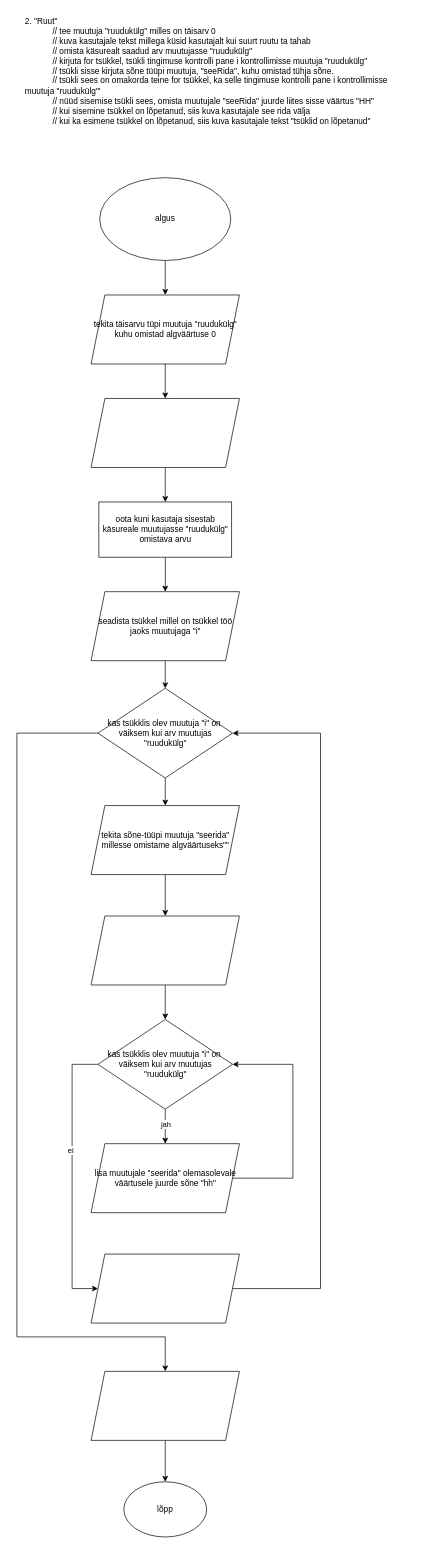
The diagram is 422 pixels wide and 1549 high, and some of its shapes have lost their labels. Each missing label, with the centre of its shape:
kuva kasutajale muutuja "seerida": the point at 164,1288
kuva kasutajale tekst "kui suurt ruutu te tahate": the point at 164,432
kuva kasutajale tekst "see tsükkel on lõpetanud": the point at 164,1405
seadista teine tsükkel millel on tsükkel töö jaoks muutuja "i": the point at 164,950
